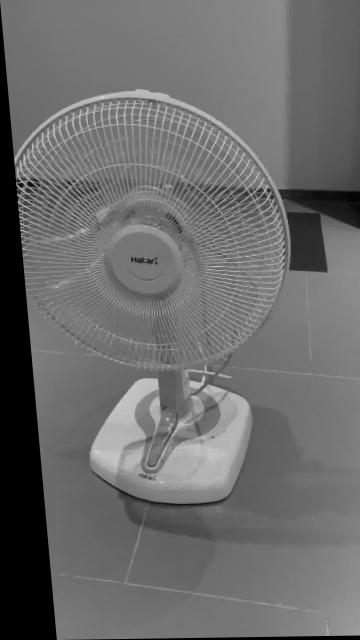Fan: (11, 91, 286, 507)
